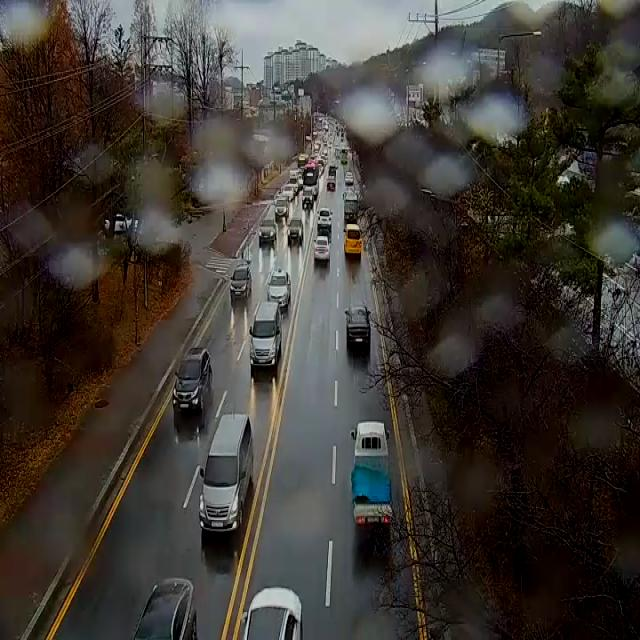Bus: (302, 160, 319, 196), (341, 149, 348, 164)
Car: (200, 416, 253, 532), (133, 577, 197, 640), (241, 587, 302, 640), (172, 349, 210, 412), (249, 302, 282, 366), (346, 307, 370, 345), (268, 268, 290, 308), (230, 266, 251, 299), (105, 214, 138, 232), (343, 224, 362, 254), (258, 218, 276, 242), (314, 237, 331, 260), (317, 208, 332, 229), (288, 220, 304, 238), (275, 197, 289, 217), (283, 186, 293, 201), (303, 190, 313, 204), (345, 172, 353, 184), (299, 174, 303, 190)
Truck: (352, 422, 391, 524), (343, 191, 358, 224), (289, 170, 299, 192), (298, 154, 309, 172)
